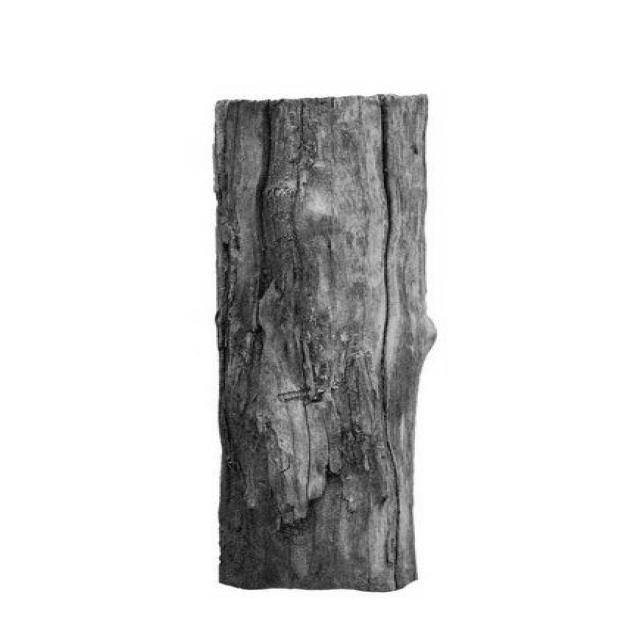Tree: (215, 96, 435, 592)
